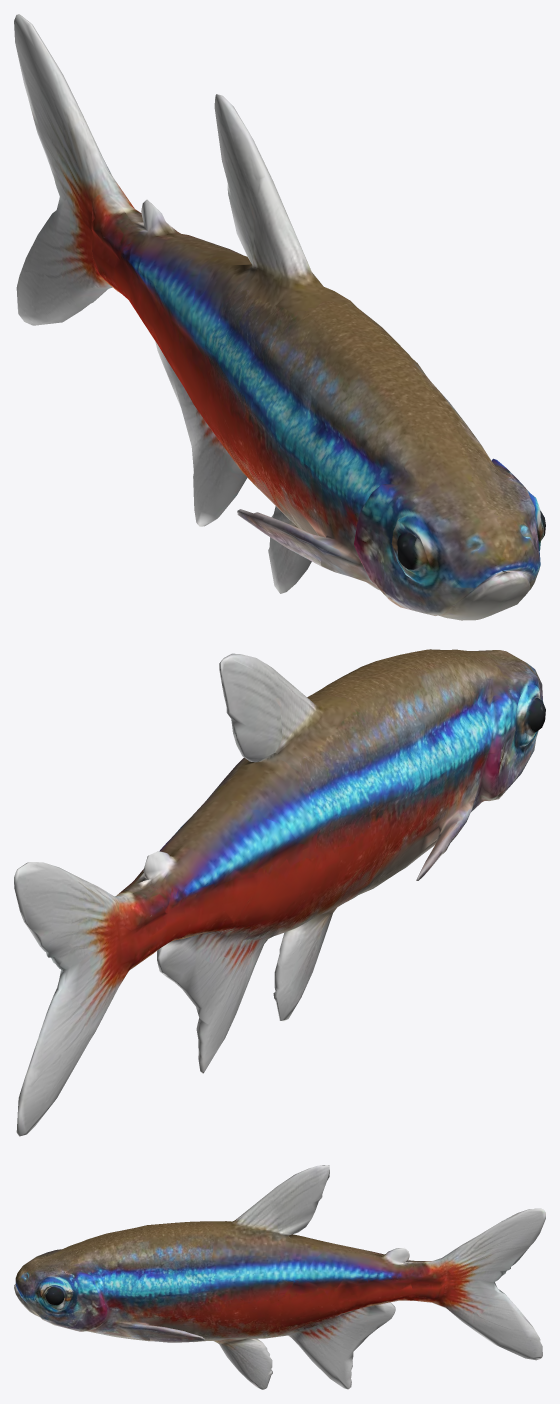
Rendered from neon.glb.
3 views of the same model, one above another, from view 1: azimuth 30°, elevation 25°; view 2: azimuth 150°, elevation 25°; view 3: azimuth 270°, elevation 25° (orthographic). The views are drawn at different scales.
Visible parts, largest first — view 1: tripo_node_945f5424-8382-4795-9d5e-3a727bd4853b; view 2: tripo_node_945f5424-8382-4795-9d5e-3a727bd4853b; view 3: tripo_node_945f5424-8382-4795-9d5e-3a727bd4853b.
Part boxes in pixels (x1,y1,x2,y2): tripo_node_945f5424-8382-4795-9d5e-3a727bd4853b: (14,14,545,620); tripo_node_945f5424-8382-4795-9d5e-3a727bd4853b: (14,649,545,1136); tripo_node_945f5424-8382-4795-9d5e-3a727bd4853b: (14,1165,545,1389).
Size of the model in its own units: 0.2021 by 0.467 by 0.9983.
Materials: 1 (1 with a texture image).
